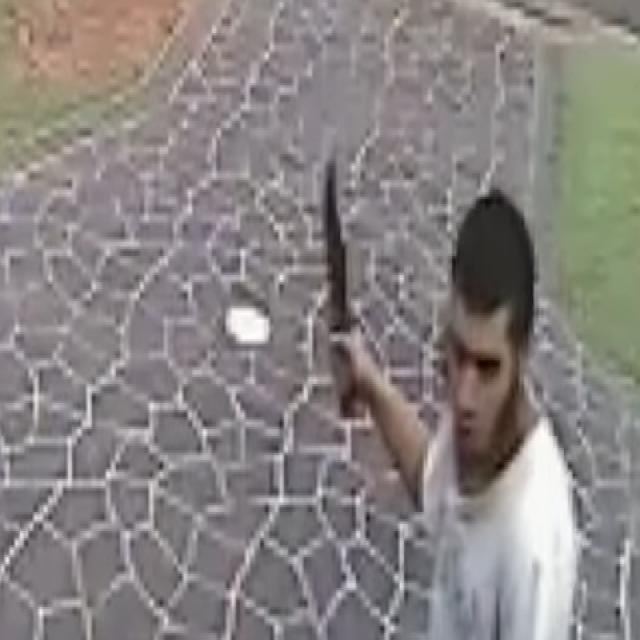Fknife: (319, 150, 372, 426)
